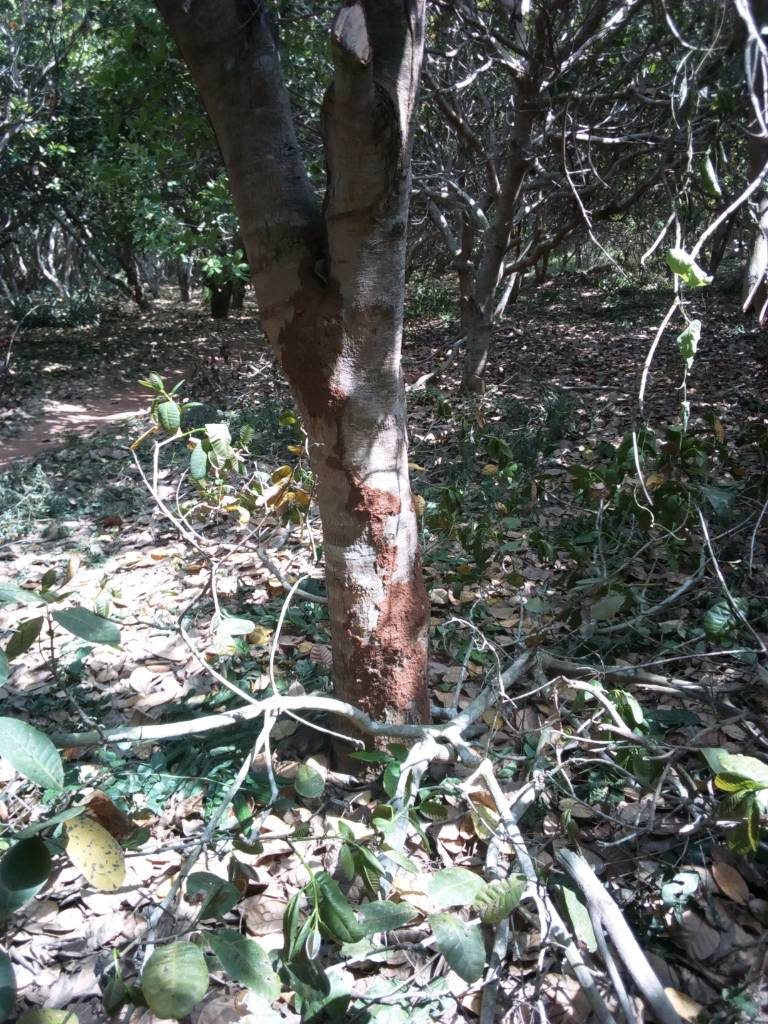Termites: (343, 453, 427, 724)
